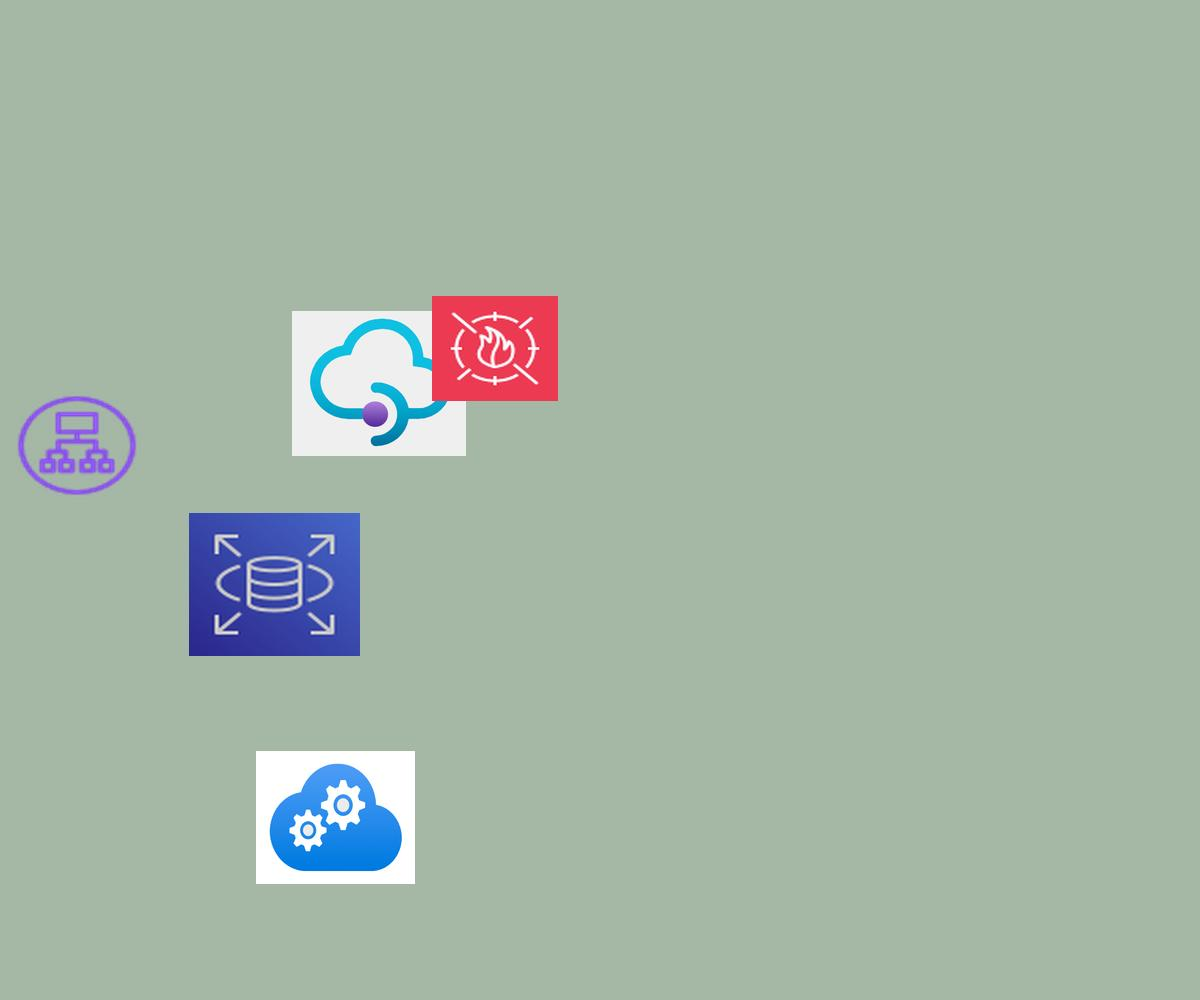AWS-RDS: (189, 513, 360, 656)
AWS-Res_Elastic-Load-Balancing_Application-Load-Balancer: (13, 392, 141, 499)
AWS-WAF: (432, 296, 558, 401)
Azure_api_gateway: (292, 311, 466, 456)
Azure_cloud_services: (256, 751, 415, 884)
